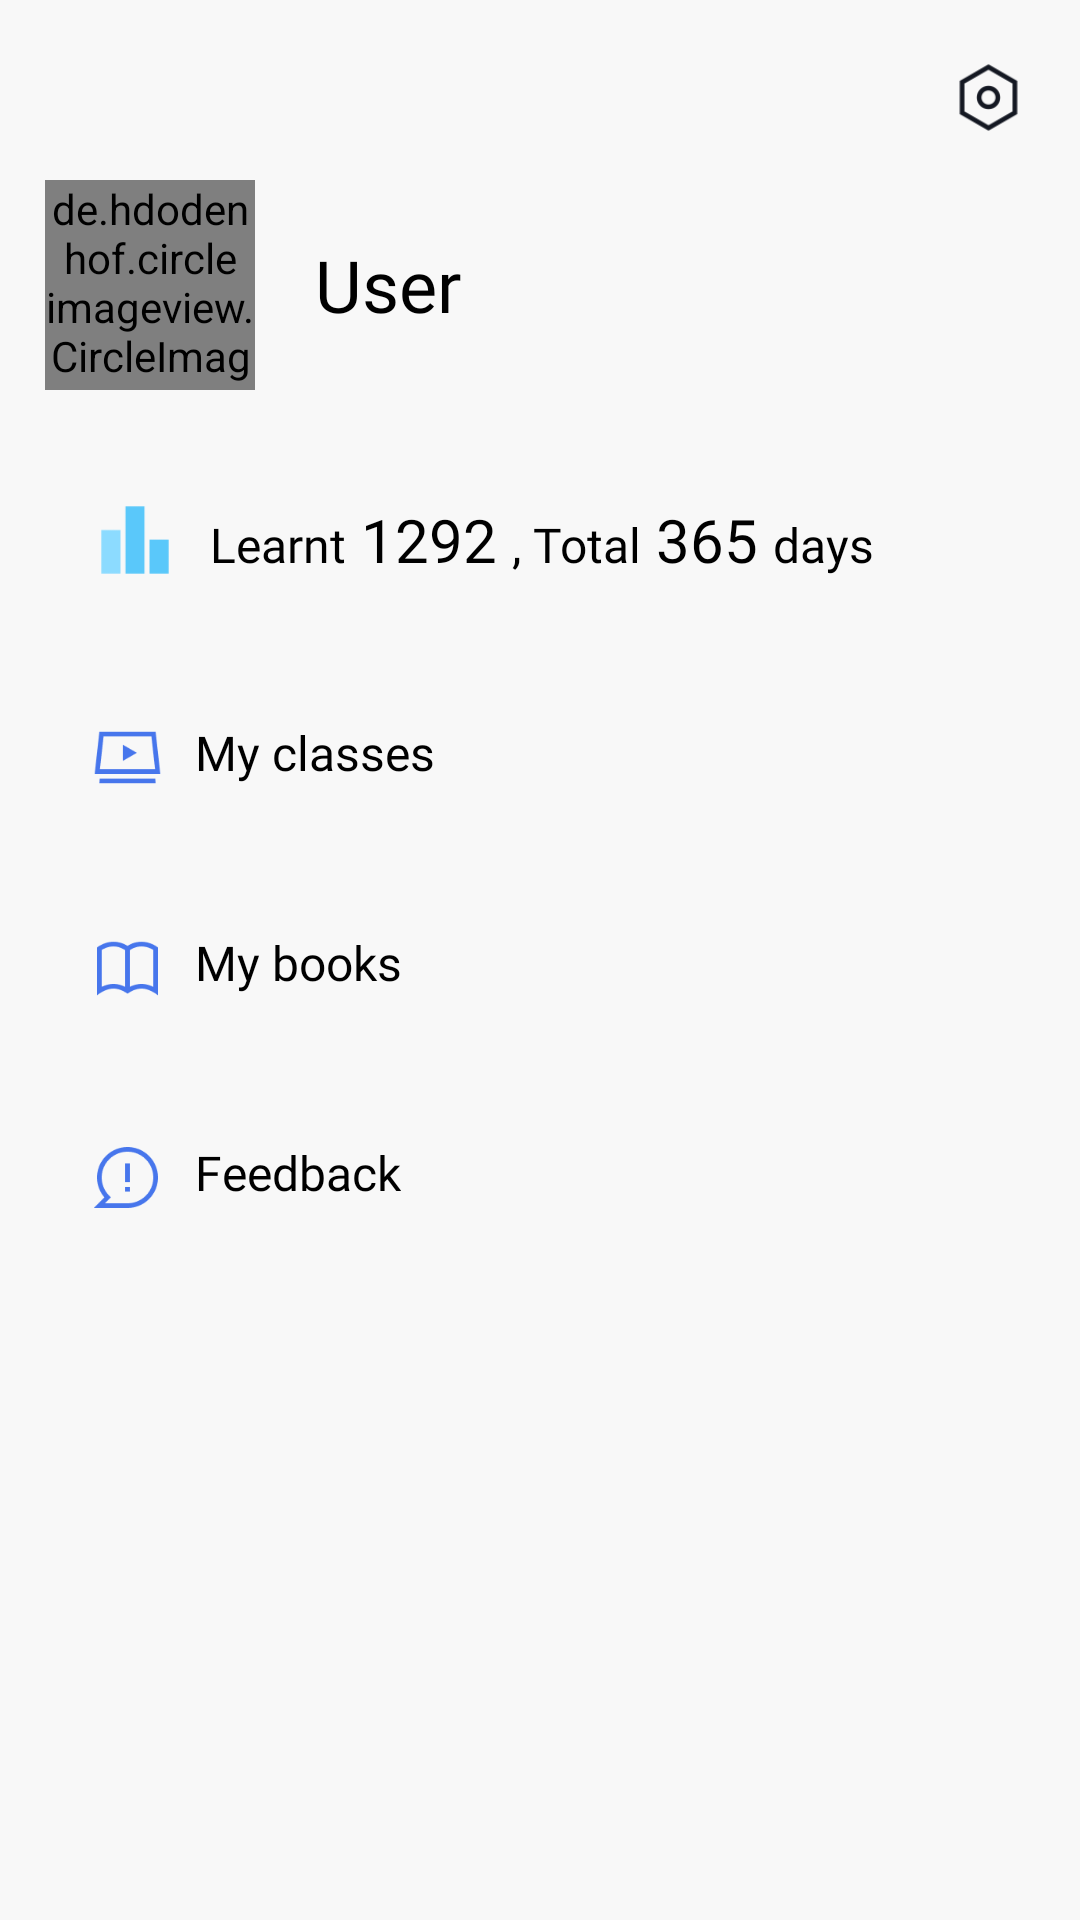

Screen size 1080px×1920px. Icon name, then its box in pixels as rect(x1, y1, x2, y2):
setting: rect(959, 64, 1018, 131)
statistic: rect(101, 506, 169, 574)
